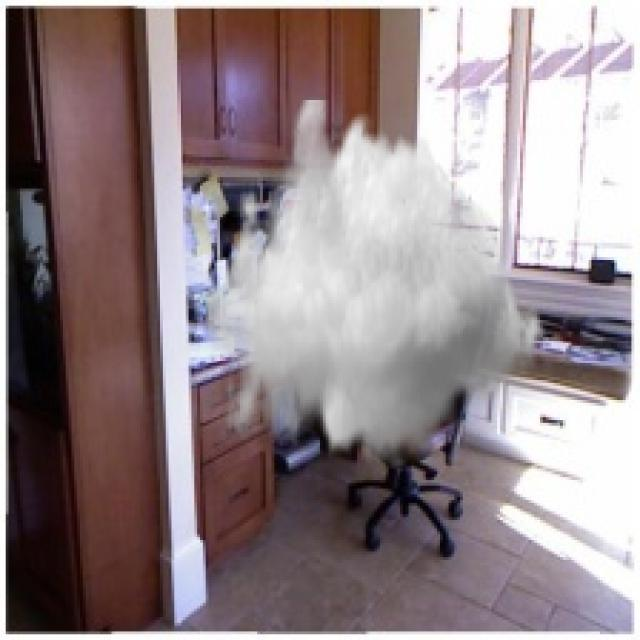Smoke: (206, 97, 552, 469)
